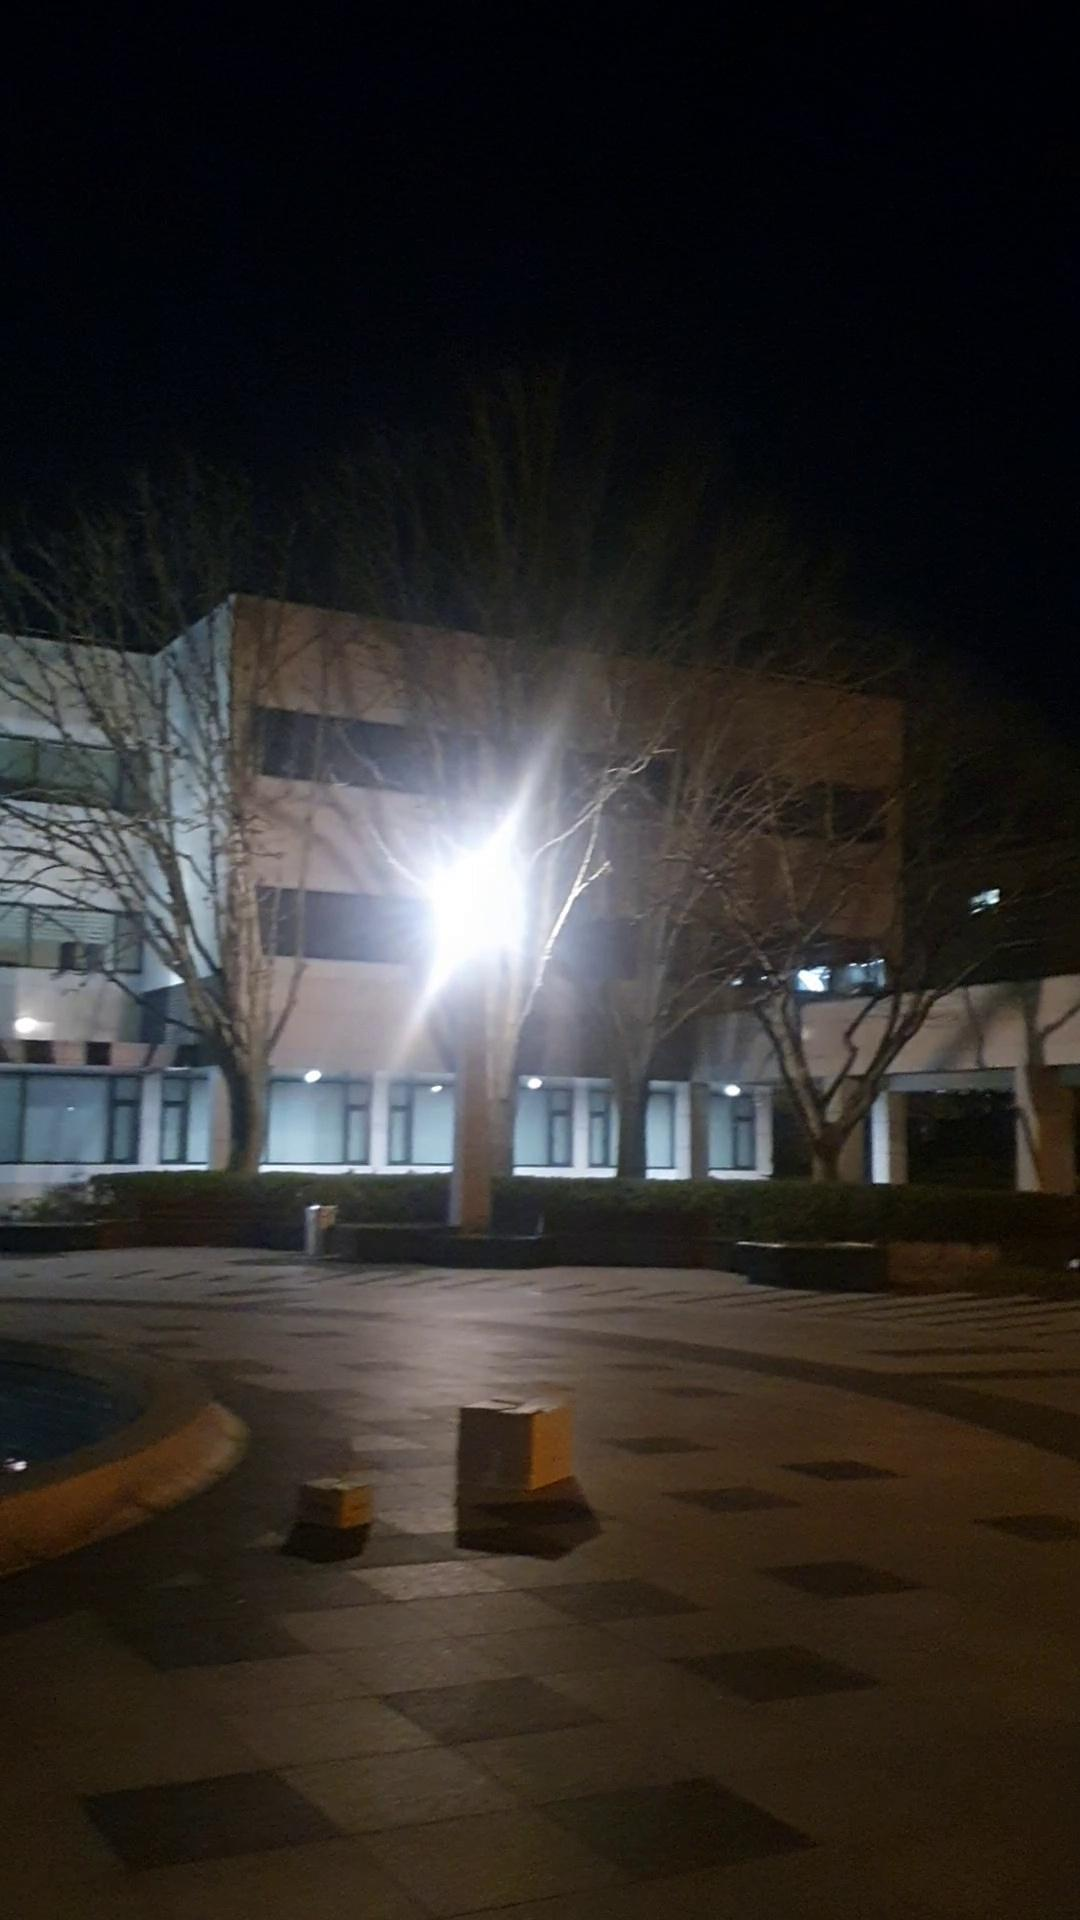Box: (429, 1383, 582, 1510), (286, 1468, 373, 1540)
